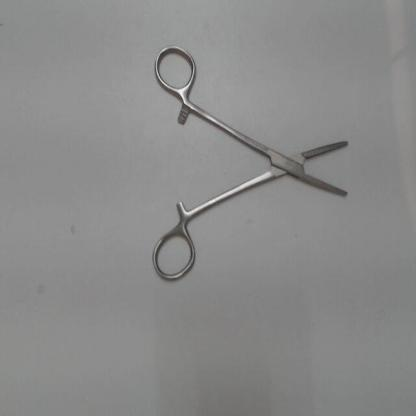Mayo Needle Holder: (148, 37, 356, 288)
